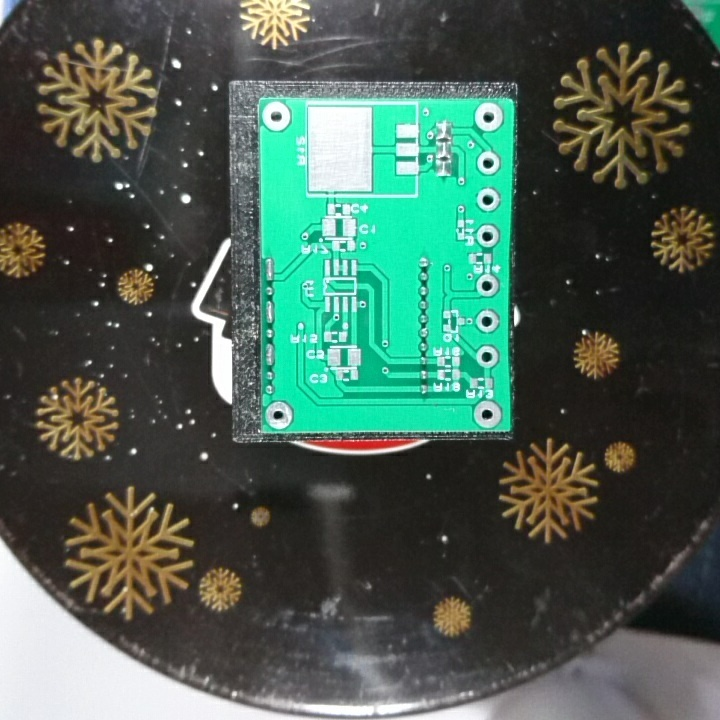F: (259, 99, 296, 134), (472, 100, 507, 134), (263, 398, 295, 432), (472, 398, 505, 429), (474, 149, 505, 178), (474, 186, 503, 215), (474, 272, 502, 300), (474, 308, 502, 336), (474, 343, 503, 370), (474, 224, 503, 249)
P: (262, 341, 278, 369), (263, 298, 277, 327), (262, 256, 277, 283)
